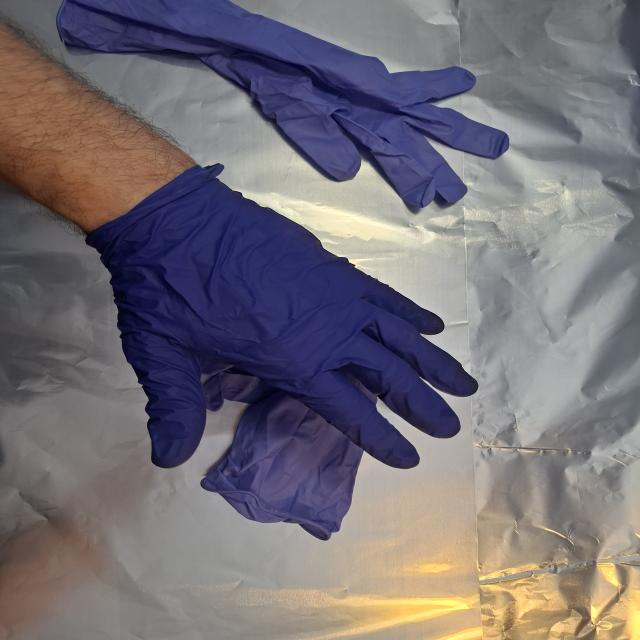glove_on: (101, 164, 480, 469)
